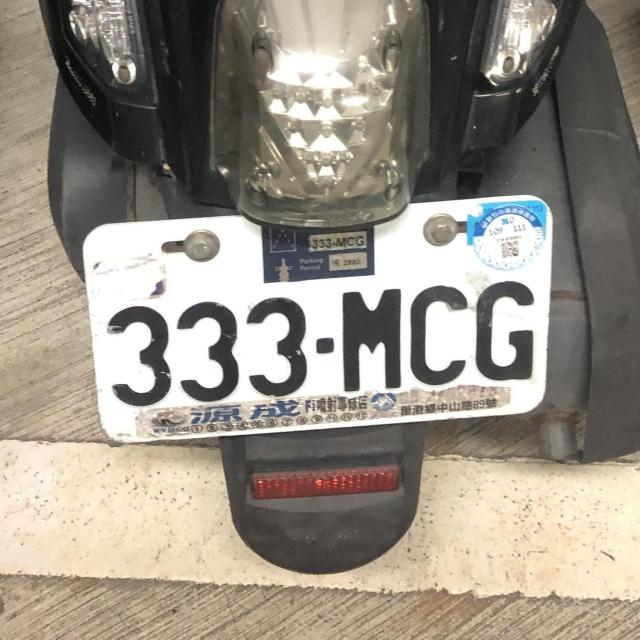W: (79, 208, 562, 454)
